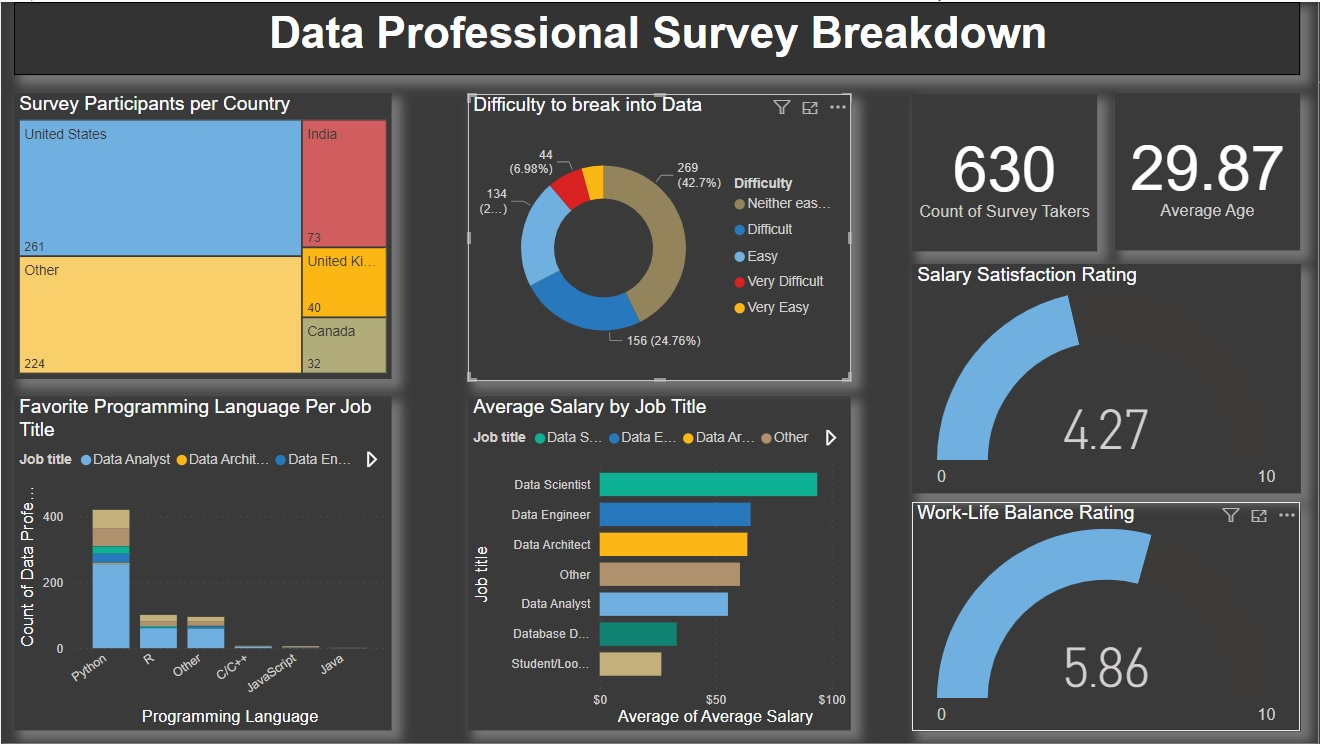

The page's visual inventory and layout, read from the dashboard file:
{"tool":"powerbi","page":{"name":"Page 1","canvas":[1280,720],"ordinal":0},"visuals":[{"type":"textbox","box":[12.3,0,1250.3,71.1],"z":0},{"type":"card","fields":{"Values":["Count(Data Professional Survey.Unique ID)"]},"box":[884.9,89.6,180,153.4],"z":1000},{"type":"card","fields":{"Values":["Avg(Data Professional Survey.Q10 - Current Age)"]},"box":[1082.7,88.7,180,153.4],"z":2000},{"type":"barChart","title":"Average Salary by Job Title","fields":{"Category":["Data Professional Survey.Q1 - Which Title Best Fits your Current Role?.1"],"Y":["Avg(Data Professional Survey.Average Salary)"],"Series":["Data Professional Survey.Q1 - Which Title Best Fits your Current Role?.1"]},"box":[454,383.1,372.4,325.4],"z":3000},{"type":"columnChart","title":"Favorite Programming Language Per Job Title","fields":{"Category":["Data Professional Survey.Q5 - Favorite Programming Language.1"],"Y":["CountNonNull(Data Professional Survey.Q1 - Which Title Best Fits your Current Role?.1)"],"Series":["Data Professional Survey.Q1 - Which Title Best Fits your Current Role?.1"]},"box":[12.4,383.1,367.1,325.4],"z":4000},{"type":"treemap","title":"Survey Participants per Country","fields":{"Group":["Data Professional Survey.Q11 - Which Country do you live in?.1"],"Values":["CountNonNull(Data Professional Survey.Unique ID)"]},"box":[12.4,88.7,367.1,277.5],"z":5000},{"type":"gauge","title":"Work-Life Balance Rating","fields":{"Y":["Avg(Data Professional Survey.Q6 - How Happy are you in your Current Position with the following? (Coworkers))"],"MinValue":["Min(Data Professional Survey.Q6 - How Happy are you in your Current Position with the following? (Coworkers))"],"MaxValue":["Max(Data Professional Survey.Q6 - How Happy are you in your Current Position with the following? (Coworkers))"]},"box":[884.9,485.9,377.7,222.6],"z":6000},{"type":"gauge","title":"Salary Satisfaction Rating","fields":{"Y":["Avg(Data Professional Survey.Q6 - How Happy are you in your Current Position with the following? (Salary))"],"MinValue":["Min(Data Professional Survey.Q6 - How Happy are you in your Current Position with the following? (Salary))"],"MaxValue":["Max(Data Professional Survey.Q6 - How Happy are you in your Current Position with the following? (Salary))"]},"box":[884.9,254.5,377.7,222.6],"z":7000},{"type":"donutChart","title":"Difficulty to break into Data","fields":{"Y":["CountNonNull(Data Professional Survey.Q1 - Which Title Best Fits your Current Role?.1)"],"Category":["Data Professional Survey.Q7 - How difficult was it for you to break into Data?"]},"box":[454,89.6,372.4,278.4],"z":8000}]}

Visuals, with their boxes in screenshot pixels (x1, y1, x2, y2), scaled from the page's 1280x720 canvas onto the 1320x744 screenshot:
textbox: (13, 0, 1302, 73)
card - Count(Data Professional Survey.Unique ID): (913, 93, 1098, 251)
card - Avg(Data Professional Survey.Q10 - Current Age): (1117, 92, 1302, 250)
"Average Salary by Job Title" barChart: (468, 396, 852, 732)
"Favorite Programming Language Per Job Title" columnChart: (13, 396, 391, 732)
"Survey Participants per Country" treemap: (13, 92, 391, 378)
"Work-Life Balance Rating" gauge: (913, 502, 1302, 732)
"Salary Satisfaction Rating" gauge: (913, 263, 1302, 493)
"Difficulty to break into Data" donutChart: (468, 93, 852, 380)
